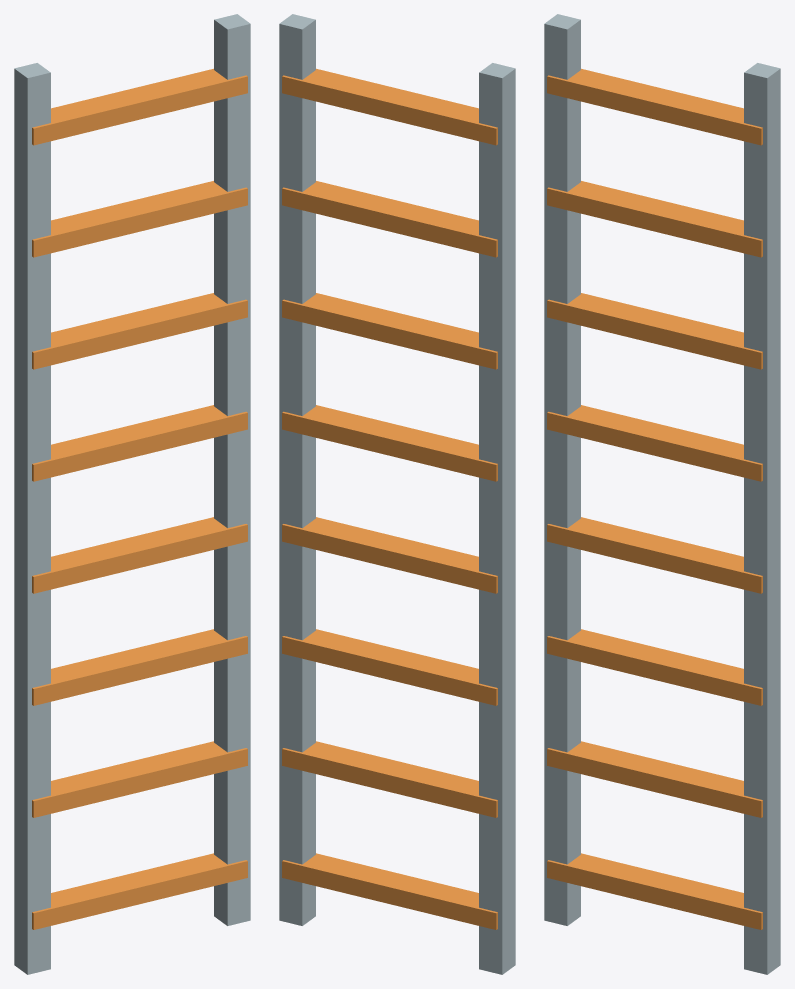
Rendered from maintenance-access-ladder.glb.
3 renders of one model, left to right at view 1: azimuth 30°, elevation 25°; view 2: azimuth 150°, elevation 25°; view 3: azimuth 330°, elevation 25°, orthographic.
Visible parts, largest first — view 1: steel, orange; view 2: steel, orange; view 3: steel, orange.
Part boxes in pixels (<box>): steel: <box>14,14,250,974</box>; orange: <box>32,68,247,929</box>; steel: <box>279,14,515,974</box>; orange: <box>282,68,497,929</box>; steel: <box>544,14,780,974</box>; orange: <box>547,68,762,929</box>.
Size of the model in its own units: 0.625 by 2.4 by 0.0799.
